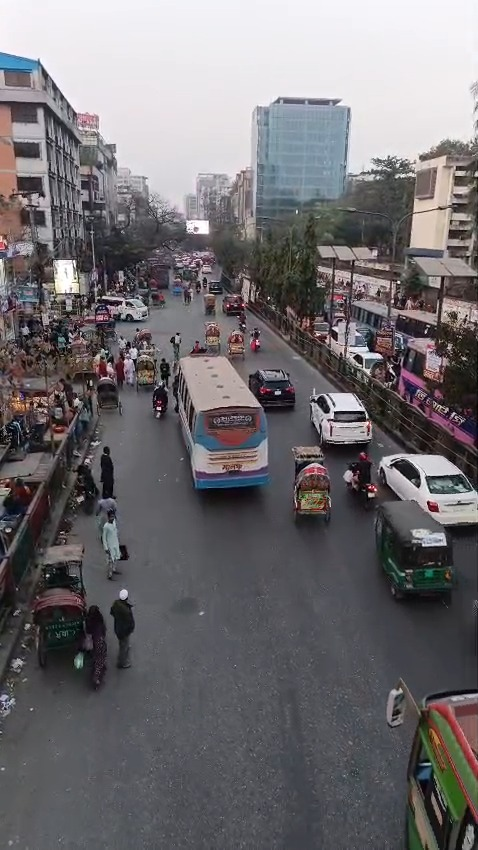Bikes: (135, 370, 184, 440)
Bus: (377, 669, 478, 850), (175, 340, 274, 514), (410, 334, 478, 428), (355, 296, 456, 352)
auto-ricksaw: (30, 532, 126, 682), (283, 442, 345, 540), (372, 359, 401, 390)
cng: (373, 500, 465, 607)
private car: (368, 449, 478, 539), (312, 380, 400, 455), (252, 362, 316, 424), (335, 322, 390, 385)
